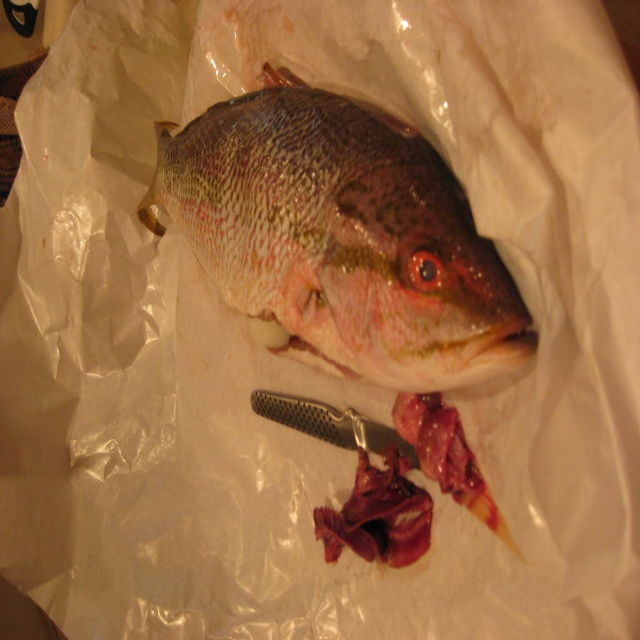Fish: (136, 60, 539, 396)
